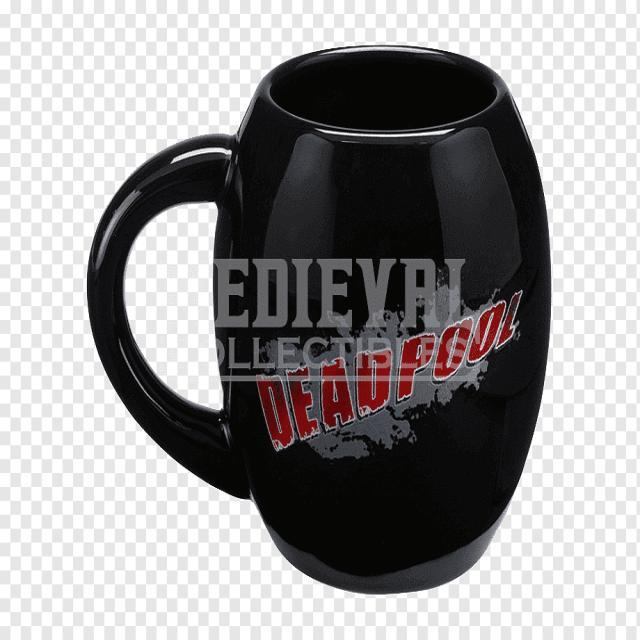Coffee Mug: (85, 42, 552, 596)
